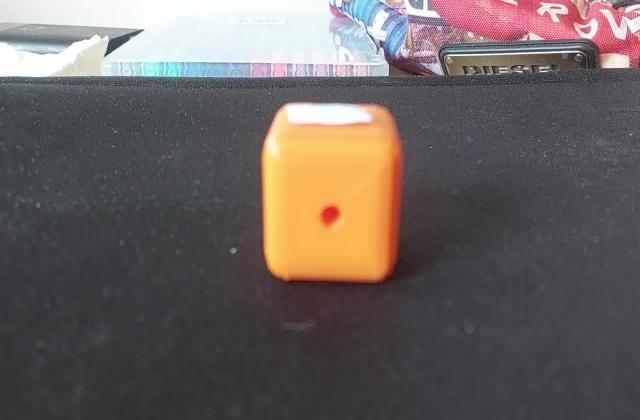cube: (257, 104, 408, 289)
white: (284, 107, 374, 128)
